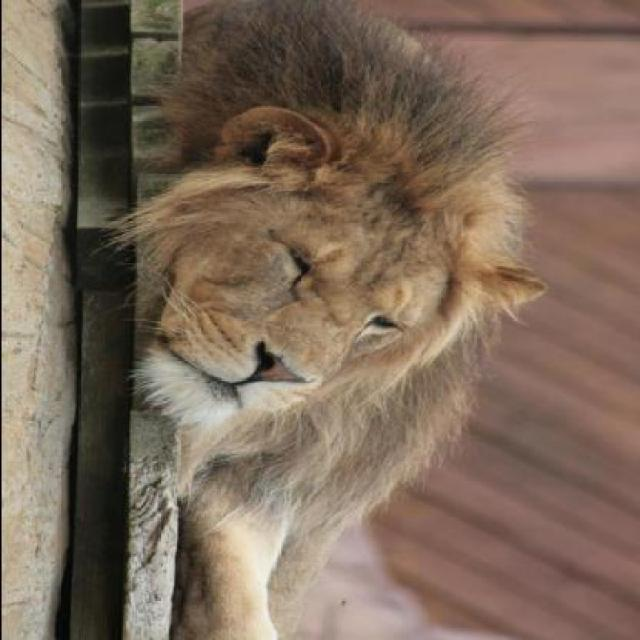Lion: (103, 2, 552, 636)
